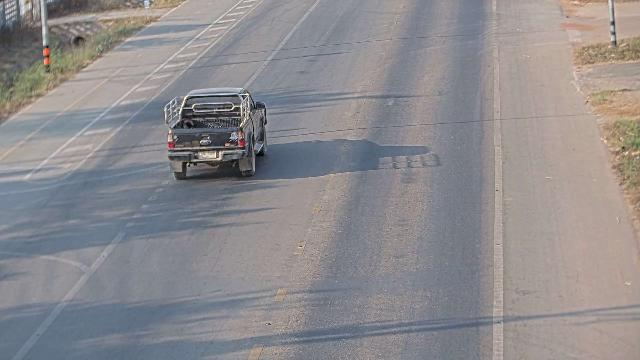pickup-truck: (163, 86, 268, 180)
